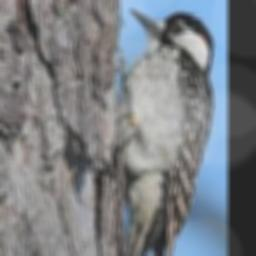Woodpecker: (90, 9, 215, 256)
